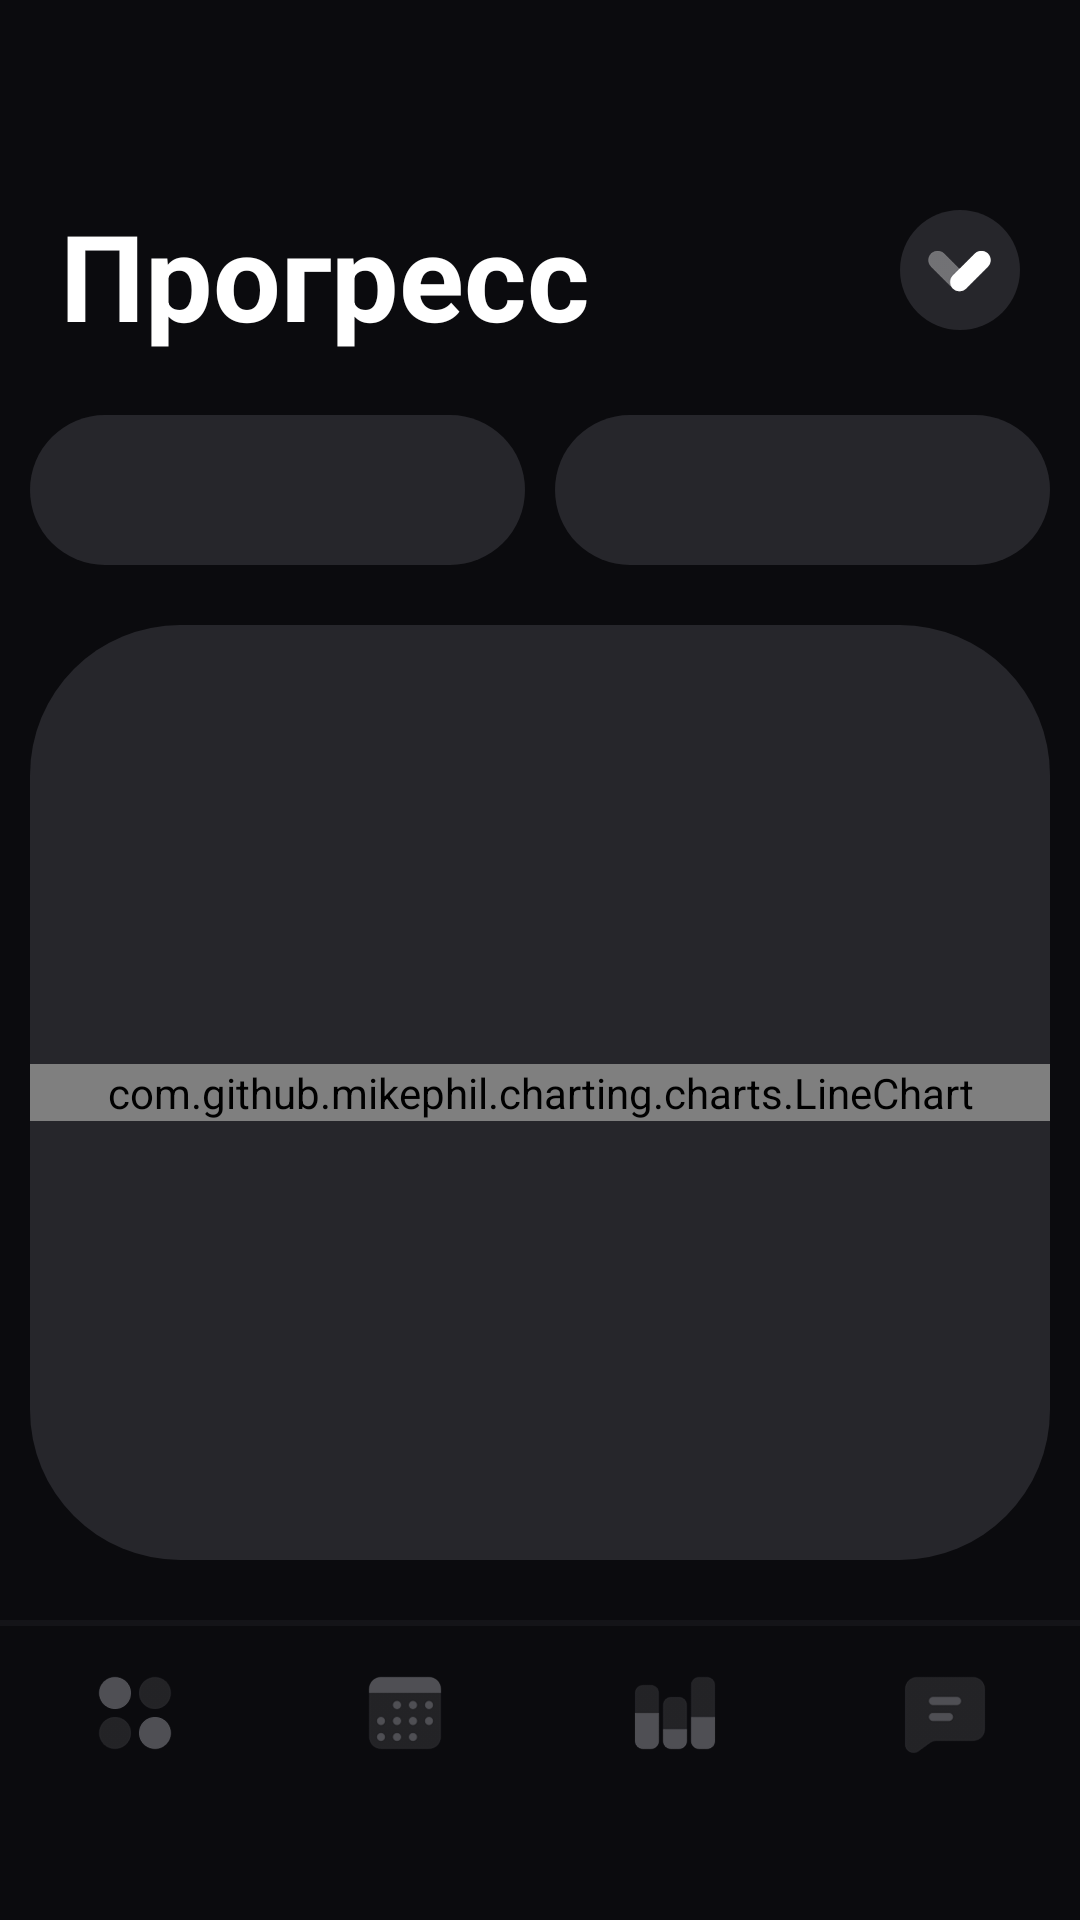

Named icons in this screenshot (1080×1920) and their bounding boxes, (x1, y1, x2, y2):
calendar: (369, 1677, 441, 1749)
chat: (905, 1677, 985, 1753)
home: (99, 1677, 171, 1749)
statistics: (635, 1677, 715, 1750)
